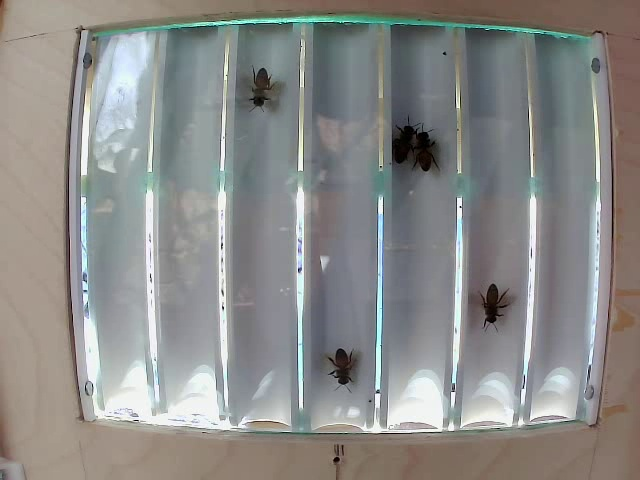bee: (311, 342, 359, 383), (482, 268, 505, 336), (247, 67, 277, 115), (414, 130, 438, 181), (390, 126, 415, 168)
